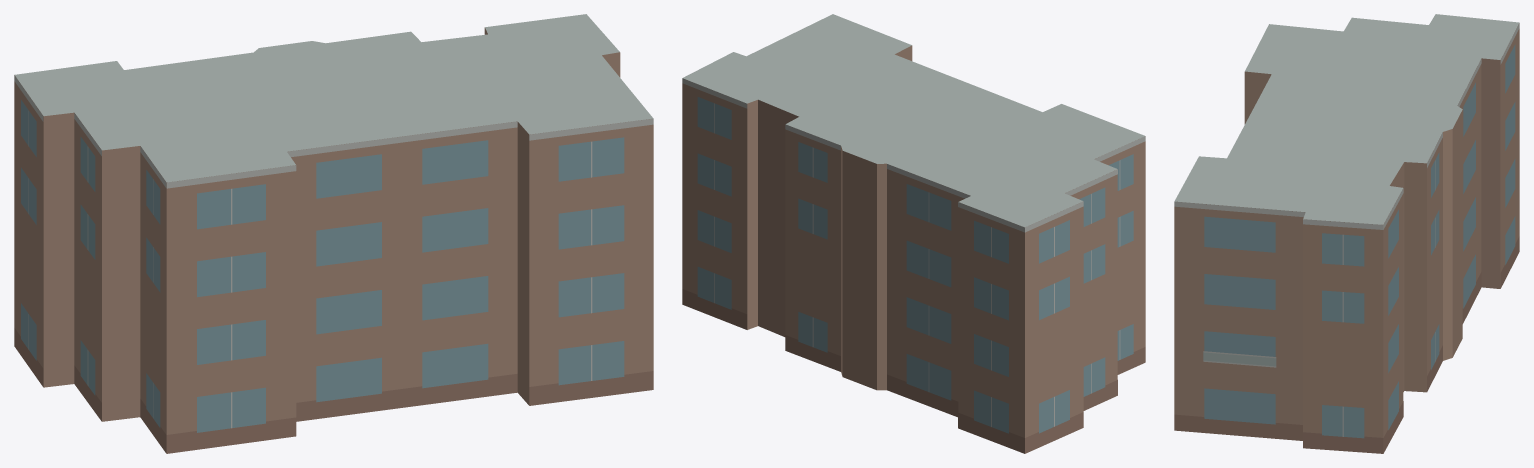
The model's file is survey-upis-32513625.glb.
3 renders of one model, left to right at view 1: azimuth 30°, elevation 25°; view 2: azimuth 150°, elevation 25°; view 3: azimuth 270°, elevation 25°, orthographic. The views are drawn at different scales.
Visible parts, largest first — view 1: survey-upis-32513625.tmp; view 2: survey-upis-32513625.tmp; view 3: survey-upis-32513625.tmp.
Boxes of the visible parts, x1,y1,x2,y2 form: survey-upis-32513625.tmp: (14,14,653,453); survey-upis-32513625.tmp: (682,14,1145,453); survey-upis-32513625.tmp: (1174,14,1519,453).
Bounding box in the file's own units: 21.33 × 10.8 × 14.77.
